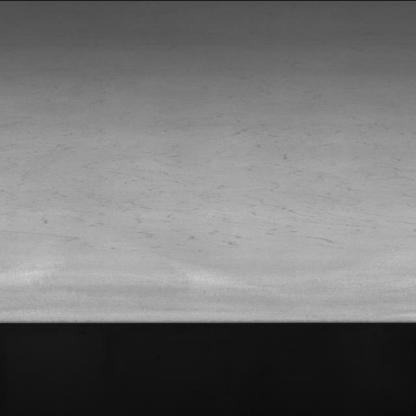silk_spot: (17, 156, 352, 260)
